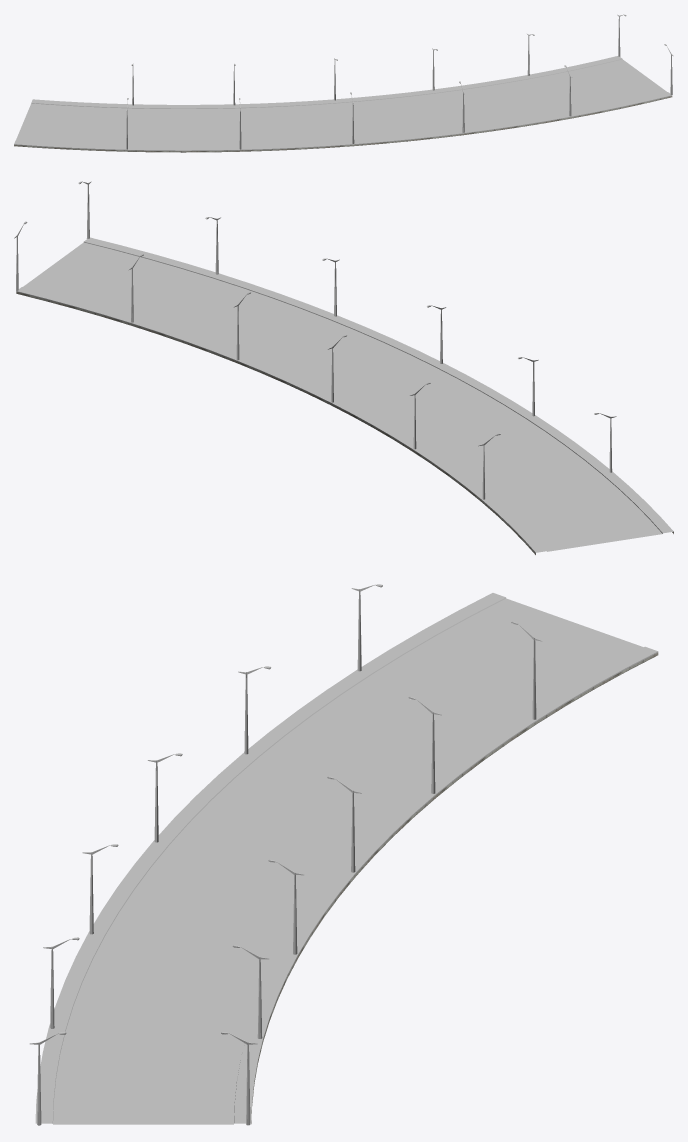
File: Big_Road_40.FBX
3 renders of one model, top to bottom at view 1: azimuth 30°, elevation 25°; view 2: azimuth 150°, elevation 25°; view 3: azimuth 270°, elevation 25°, orthographic. The views are drawn at different scales.
Visible parts, largest first — view 1: Big_Road_40, city_light007; view 2: Big_Road_40, city_light007; view 3: Big_Road_40, city_light007.
Part boxes in pixels (bbox=[...]): Big_Road_40: bbox=[14, 56, 672, 152]; city_light007: bbox=[126, 14, 673, 149]; Big_Road_40: bbox=[16, 237, 673, 554]; city_light007: bbox=[14, 181, 616, 499]; Big_Road_40: bbox=[35, 593, 658, 1124]; city_light007: bbox=[29, 584, 542, 1125].
Size of the model in its own units: 13221 by 1104 by 6602.
